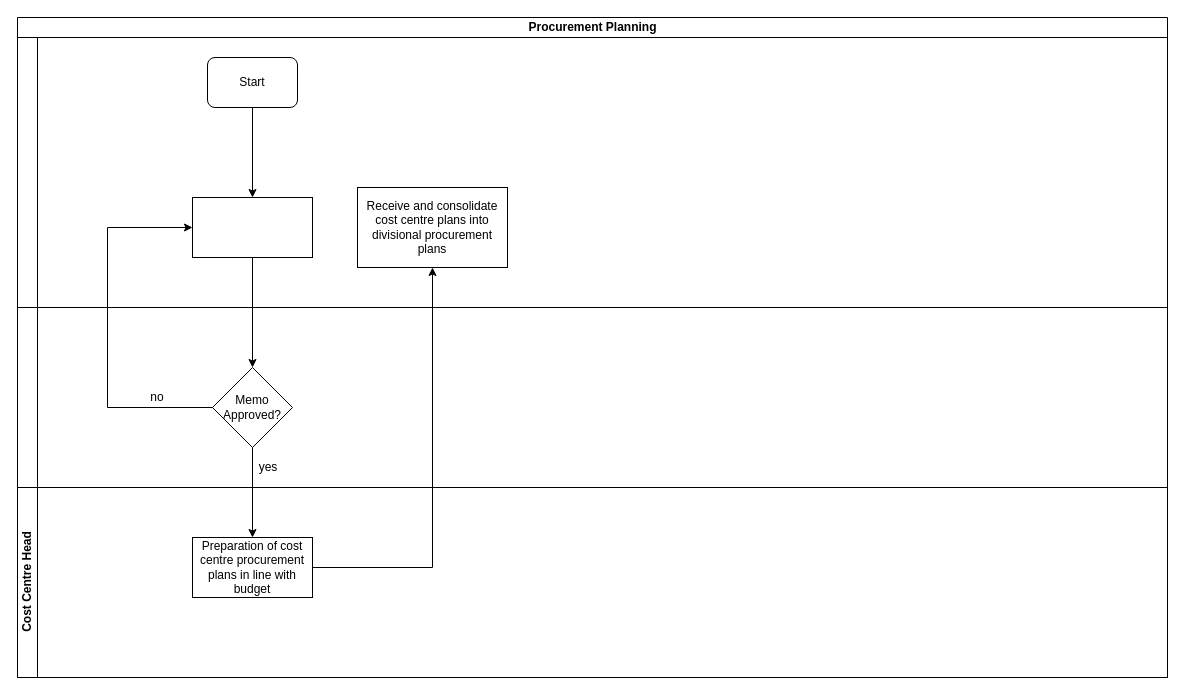
Image size: 1185x695. Some labels were removed from this diagram. The box of each missing label's shape, as (x1, y1, x2, y2) in pixels:
CEO: (16, 306, 1168, 488)
HSCM: (16, 36, 1168, 308)
Prepare memo for various divisions to submit their annual divisional: (192, 196, 312, 258)
